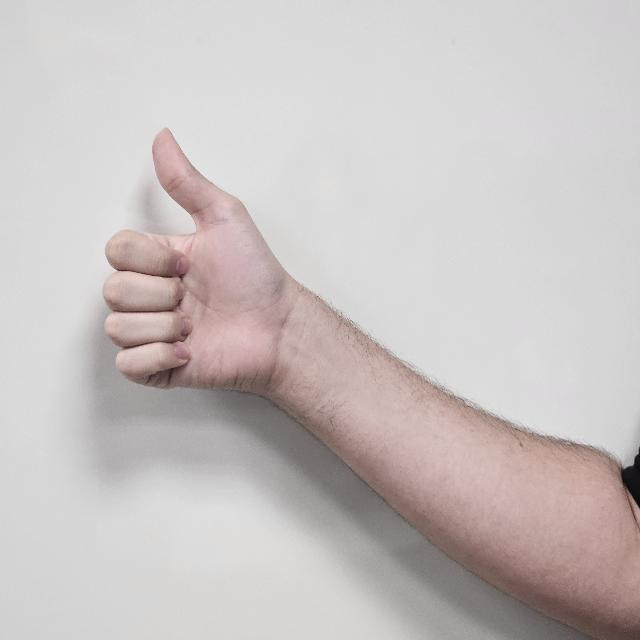Start: (101, 122, 283, 422)
